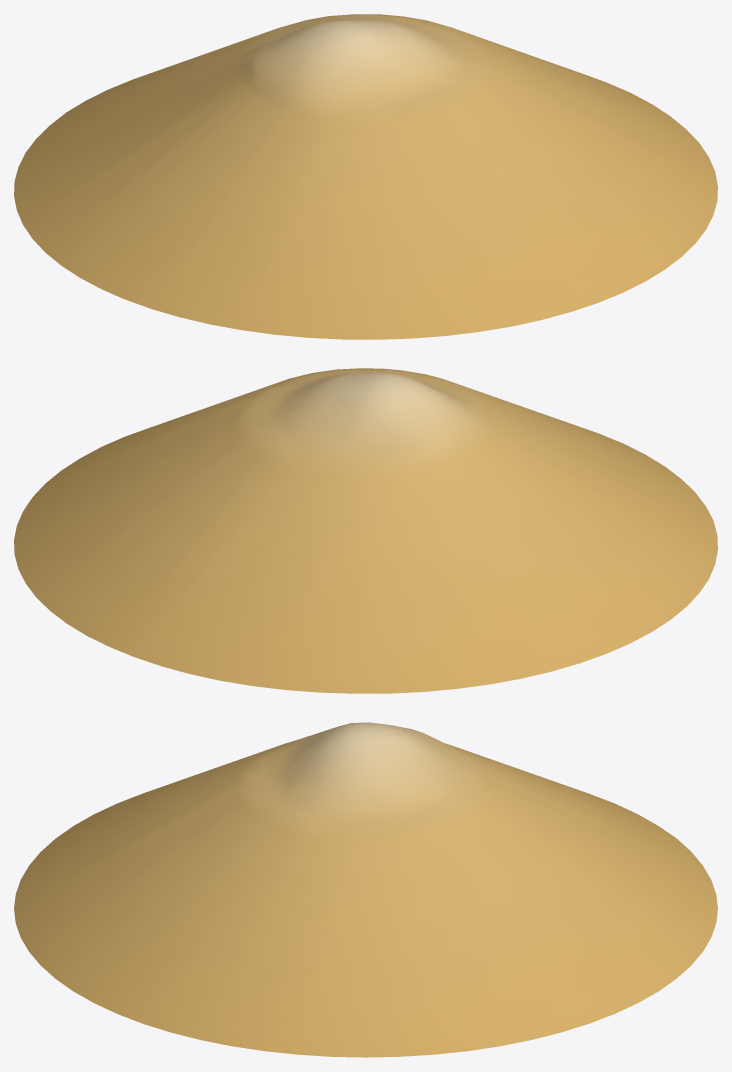
File: Island.fbx
3 views of the same model, one above another, from view 1: azimuth 30°, elevation 25°; view 2: azimuth 150°, elevation 25°; view 3: azimuth 270°, elevation 25° (orthographic).
Visible parts, largest first — view 1: Circle; view 2: Circle; view 3: Circle.
Part boxes in pixels (x1,y1,x2,y2): Circle: (14, 14, 717, 339); Circle: (14, 368, 717, 693); Circle: (14, 722, 717, 1057).
Size of the model in its own units: 2184 by 573 by 2183.
